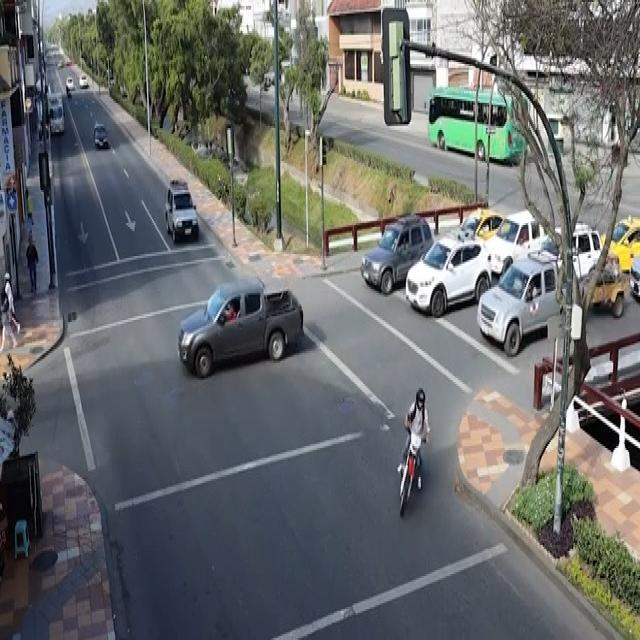BUS: (427, 92, 557, 166)
CMT: (177, 283, 308, 378)
MOTORCYCLE: (397, 425, 429, 524)
